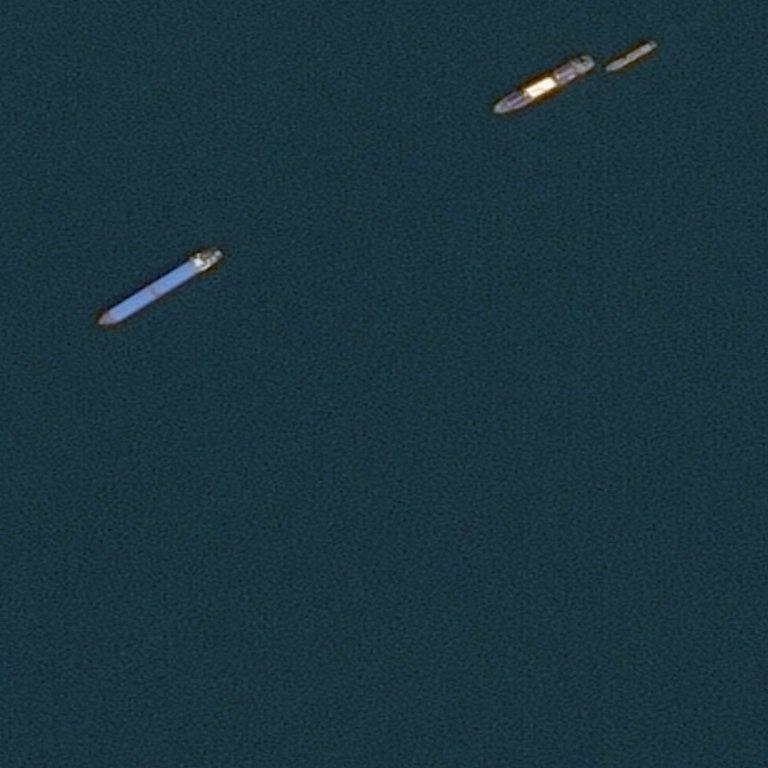ship: (601, 36, 666, 77), (125, 272, 195, 302), (526, 0, 560, 42), (65, 252, 71, 258), (97, 320, 102, 326), (210, 14, 215, 20), (606, 68, 609, 72), (593, 62, 597, 65), (655, 43, 658, 46), (493, 110, 496, 113), (583, 54, 584, 55), (652, 40, 652, 40)
